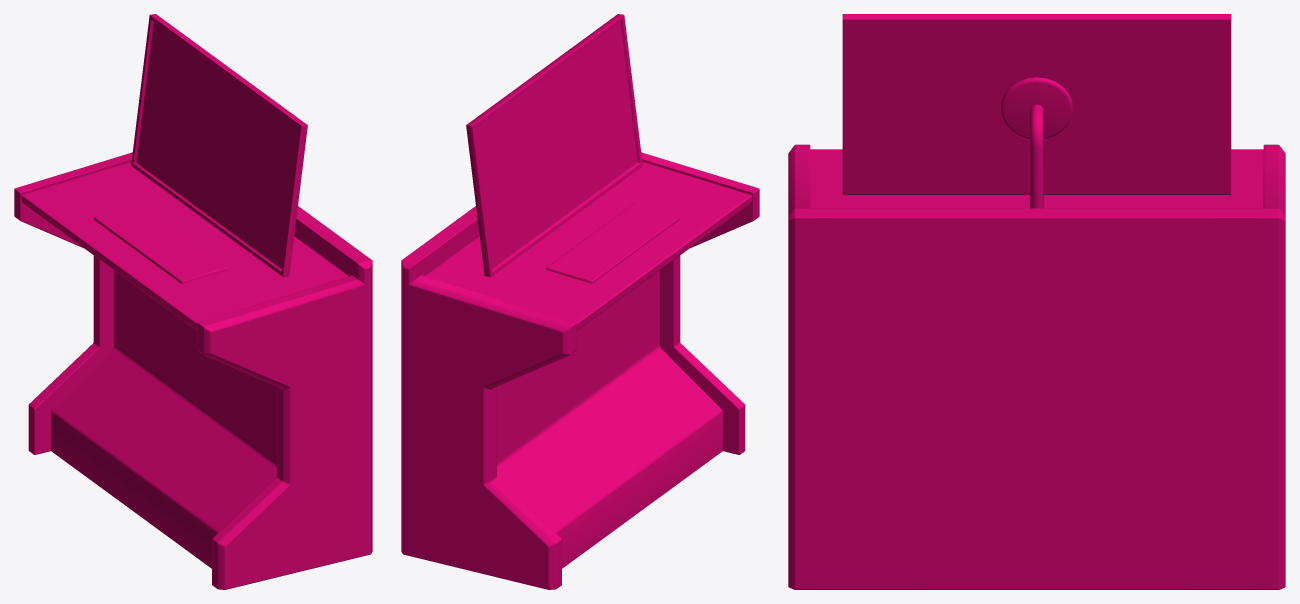
The model's file is Computer03.fbx.
The picture shows the model from 3 angles, left to right: view 1: azimuth 30°, elevation 25°; view 2: azimuth 150°, elevation 25°; view 3: azimuth 270°, elevation 25°; orthographic projection. The views are drawn at different scales.
Visible parts, largest first — view 1: SM_Computer03; view 2: SM_Computer03; view 3: SM_Computer03.
Boxes of the visible parts, x1,y1,x2,y2 form: SM_Computer03: [14, 14, 372, 589]; SM_Computer03: [401, 14, 759, 589]; SM_Computer03: [788, 14, 1285, 589].
Size of the model in its own units: 70.87 by 170 by 141.
